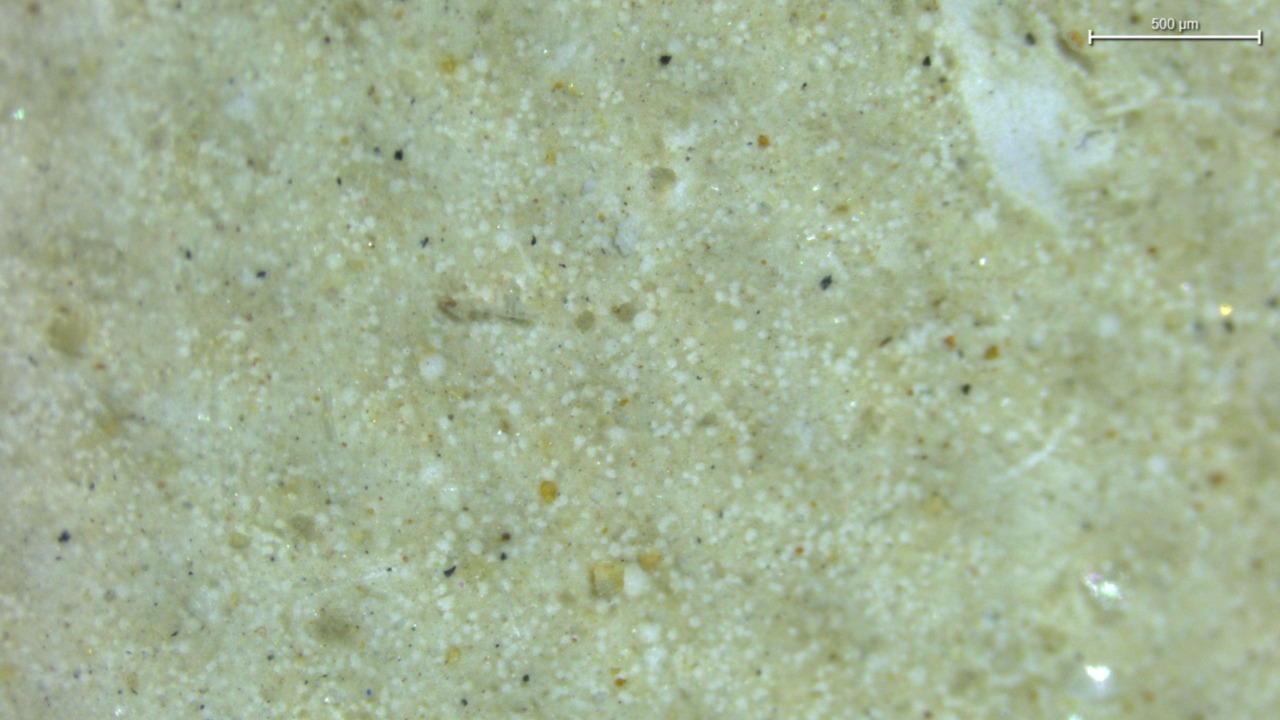microplastic_fragment: (590, 564, 624, 598), (614, 216, 643, 255)
